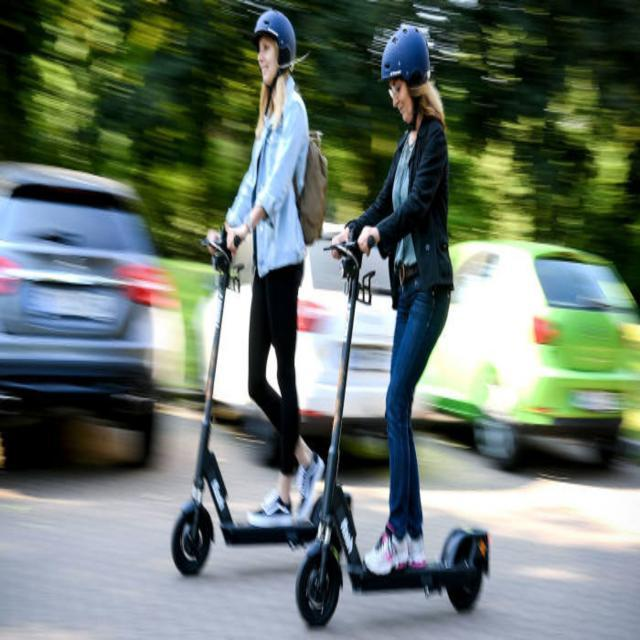Helmet: (367, 20, 450, 140), (244, 0, 304, 94)
